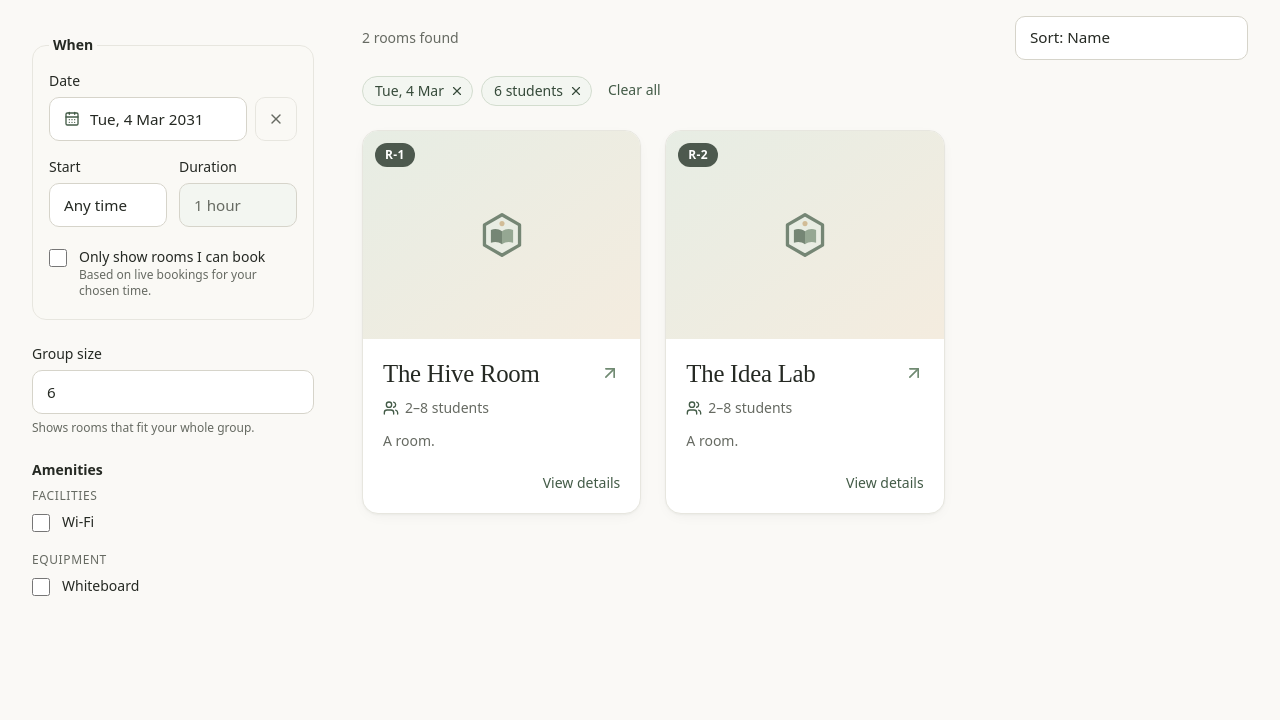
RoomsPage › passes URL filters to the API and refines the search as filters change
(page scrolled)
expect the heading "2 rooms found" is shown: met, box [362,28,459,48]
Click the checkbox labelled "Whiteboard".
click(41, 587)  # box [32,578,50,596]
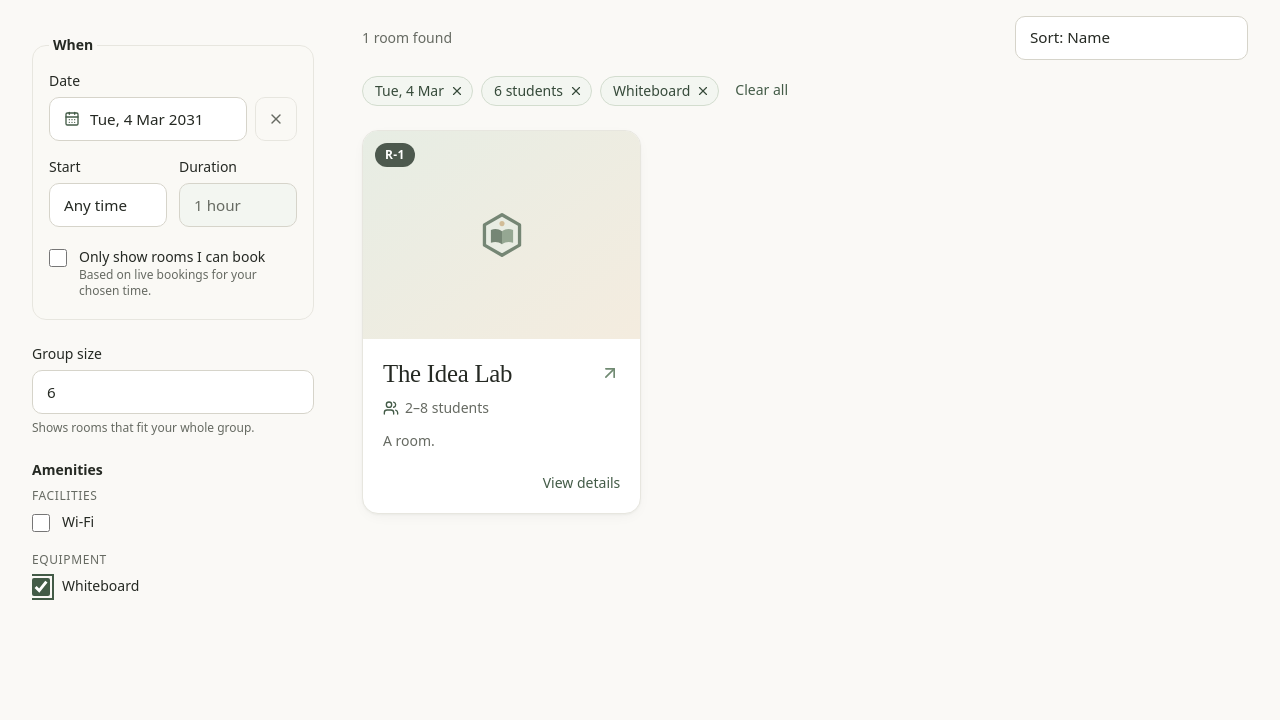
expect the heading "1 room found" is shown: met, box [362,28,452,48]
expect the button with aria-label "Remove filter Whiteboard" is shown: met, box [600,76,719,106]
